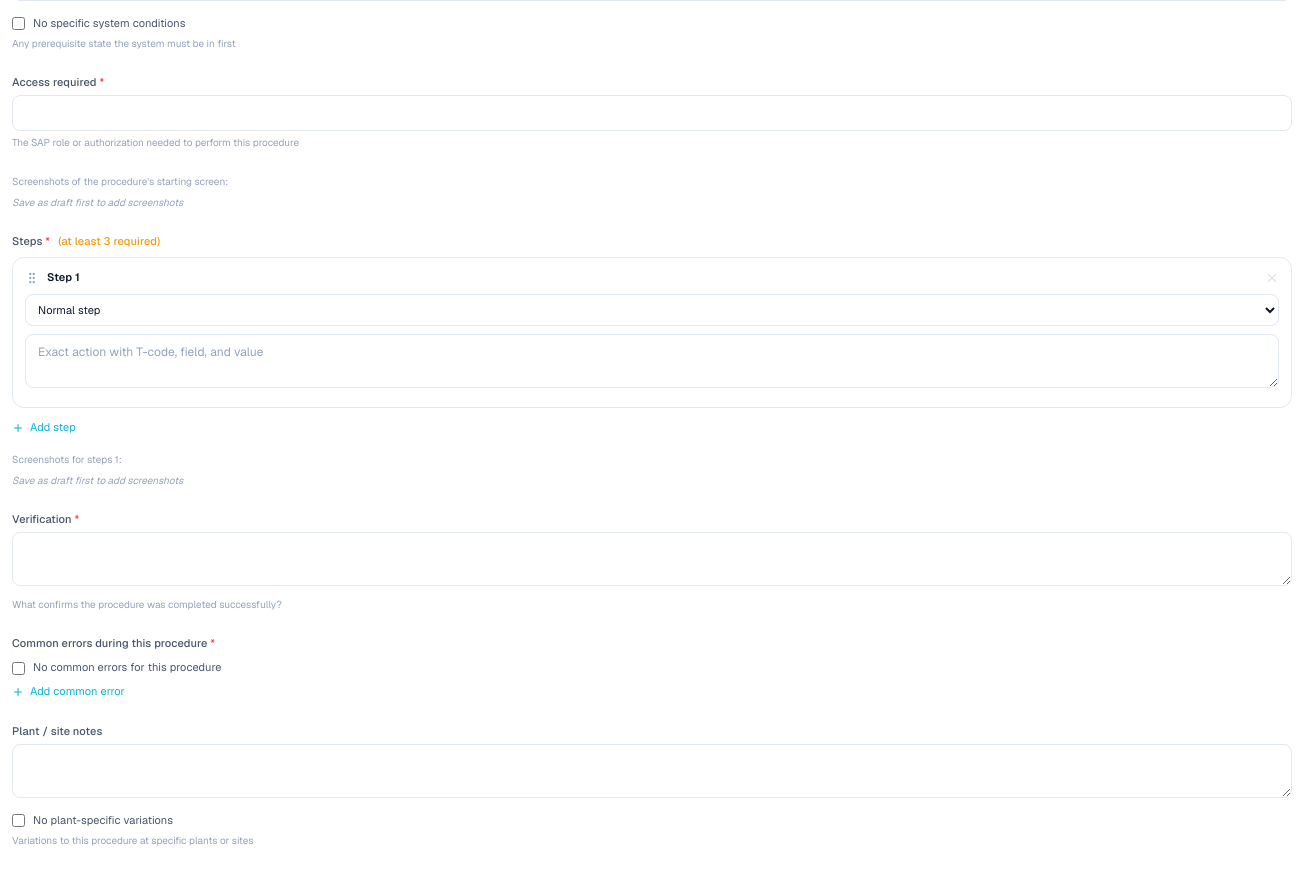
Test: ProcedureFormFields › adds a step
(page scrolled)
Click the button "Add step". click: (44, 428)
box: [12,420,76,436]
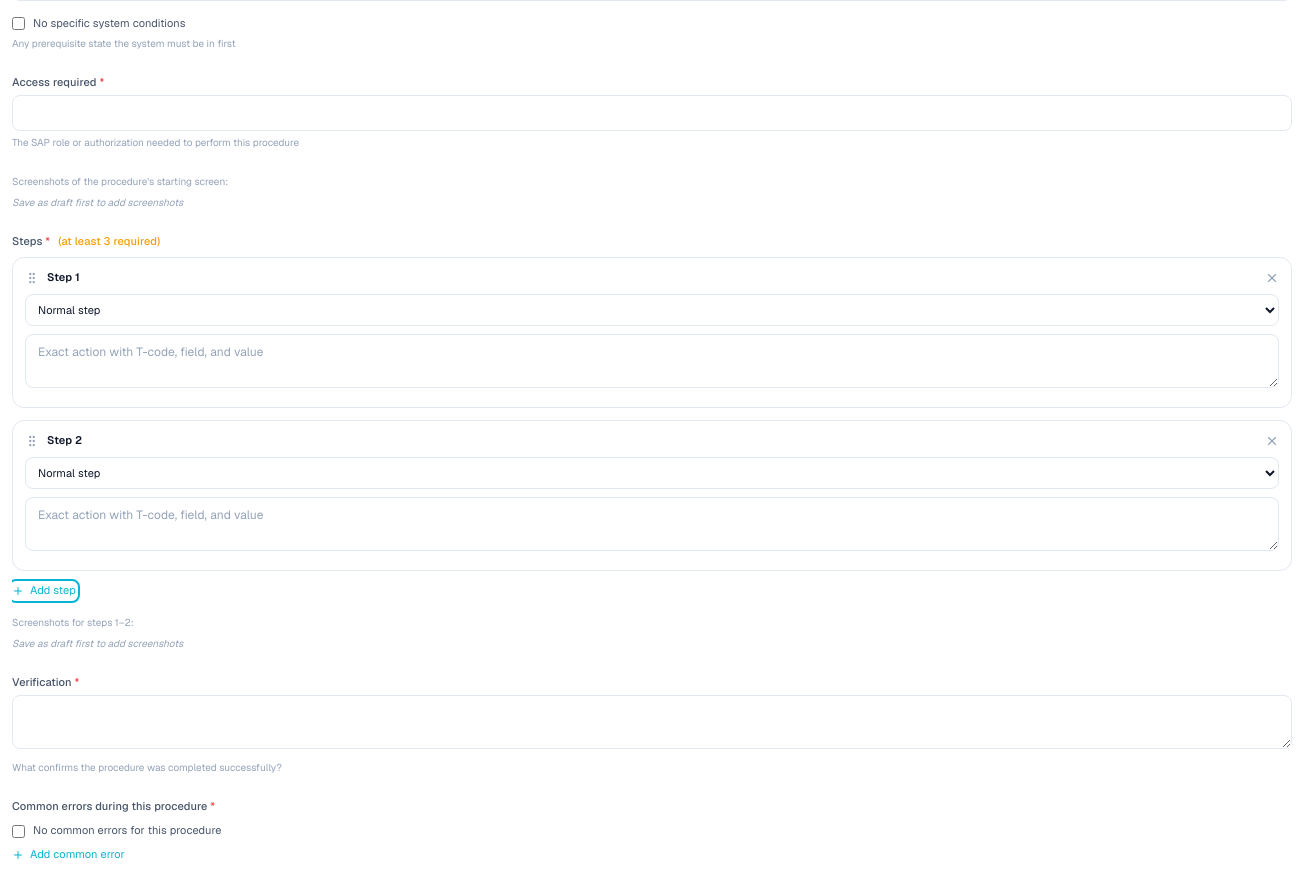
Expected: the text "Step 2" is shown, [47,433,82,449]
